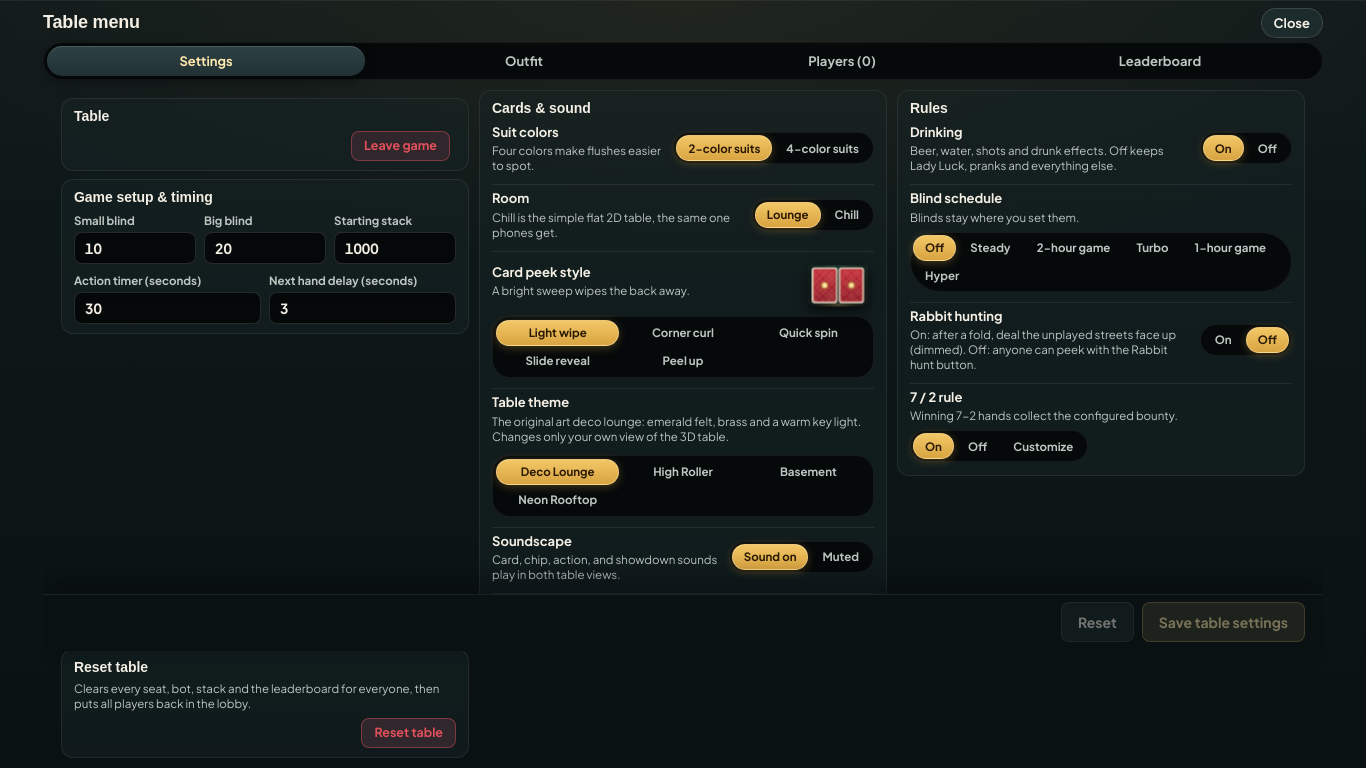
Scenario: SettingsModal › can reset an unsaved avatar draft without publishing it
This screenshot has width=1366, height=768.
Click the button "Outfit" at (524, 61), box left=365, top=46, right=683, bottom=76
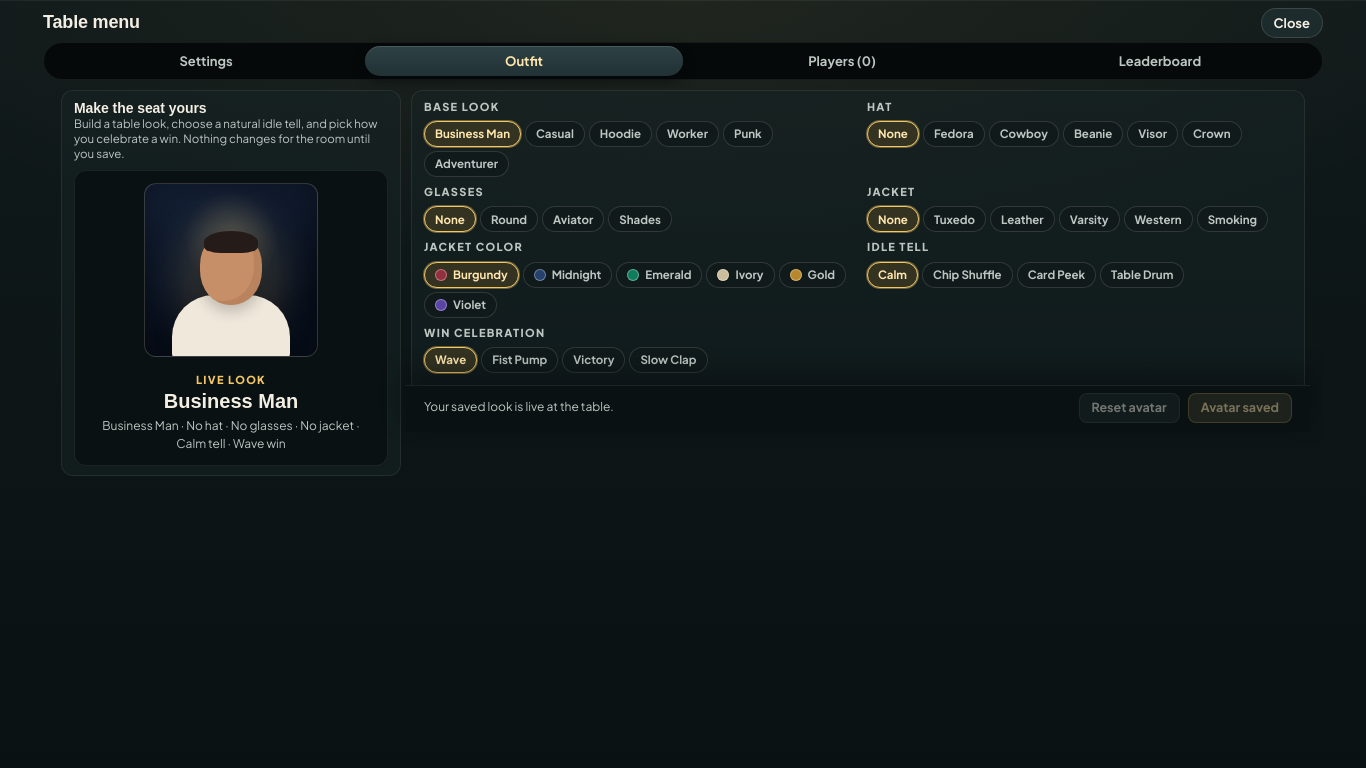
Click the button "Cowboy" at (1024, 134), box left=989, top=121, right=1059, bottom=147
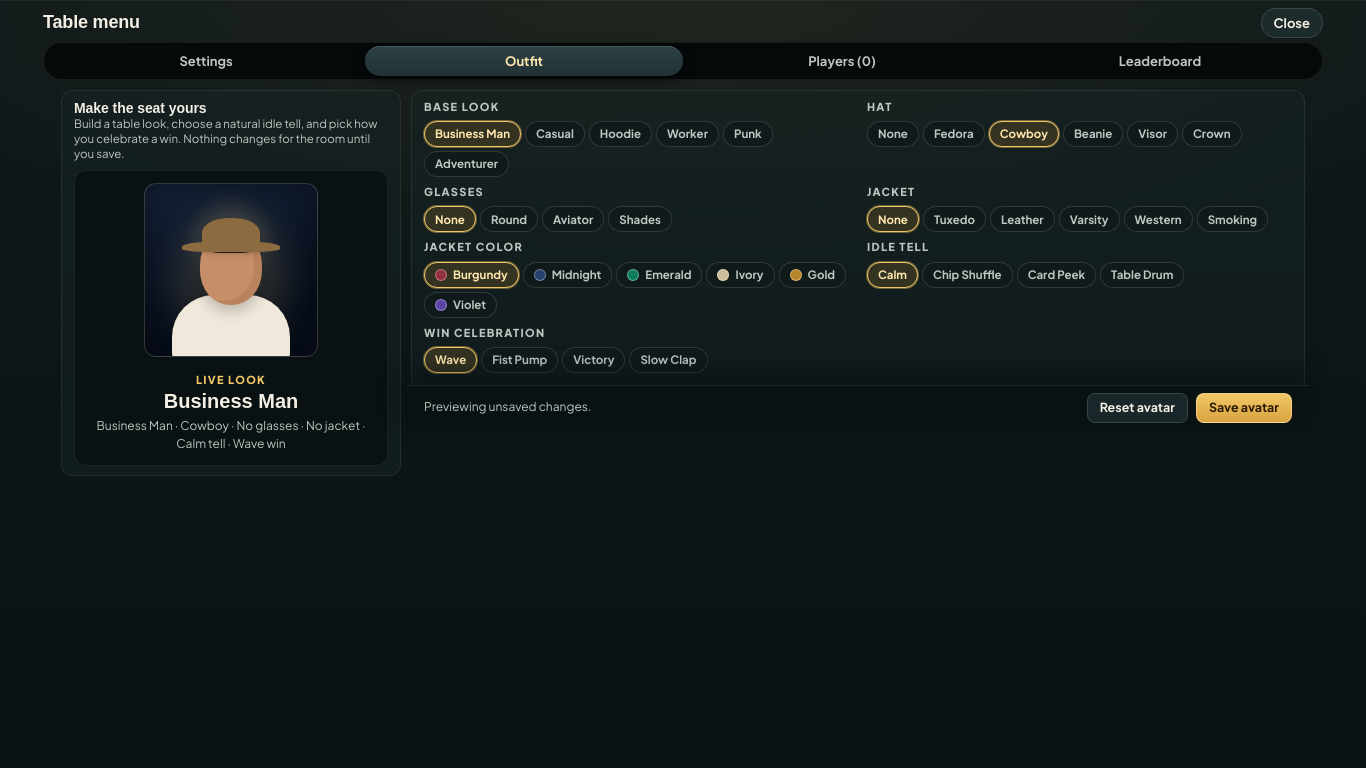
expect the button "Save avatar" is enabled: met, box left=1196, top=393, right=1292, bottom=423
Click the button "Reset avatar" at (1137, 408), box left=1087, top=393, right=1188, bottom=423
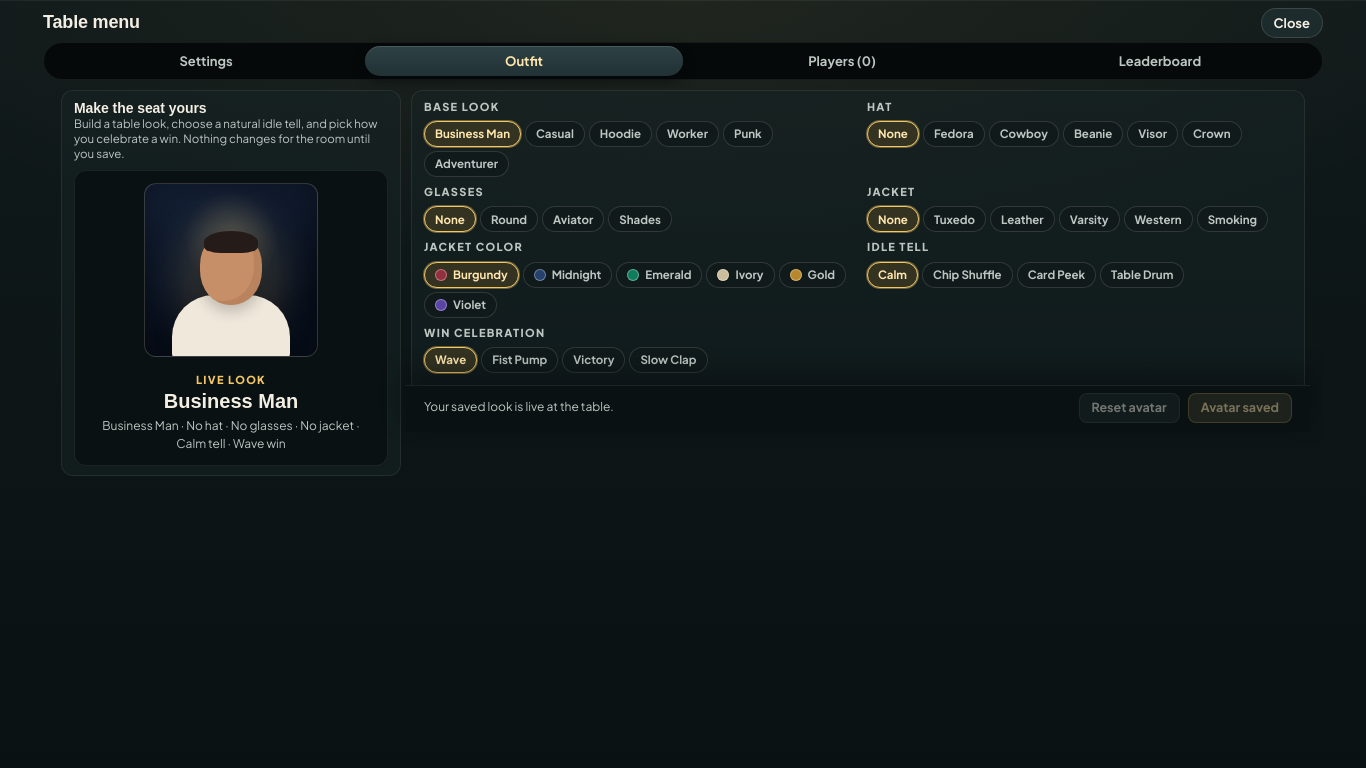
expect the button "Avatar saved" is disabled: met, box left=1188, top=393, right=1292, bottom=423
